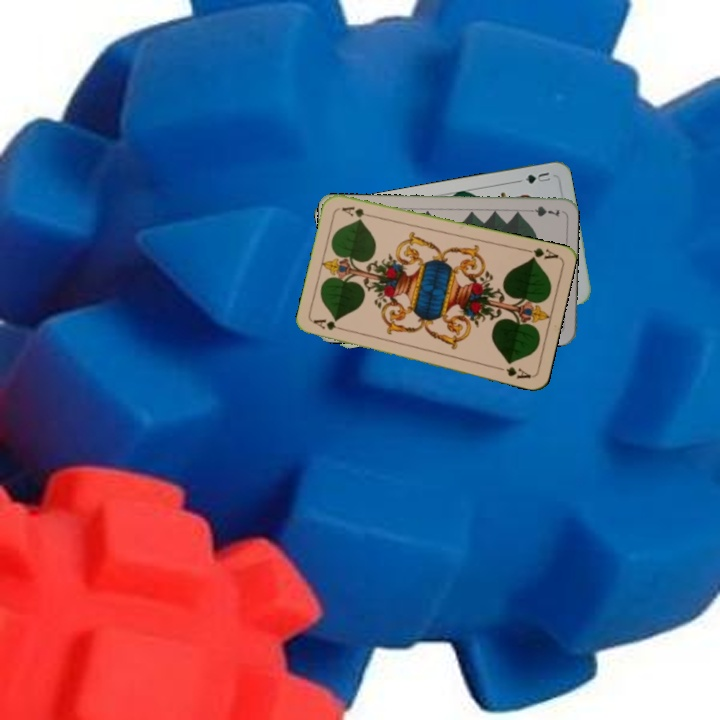G7: (522, 202, 562, 219)
GA: (520, 244, 561, 262), (310, 316, 350, 334)
GU: (521, 168, 553, 186)
